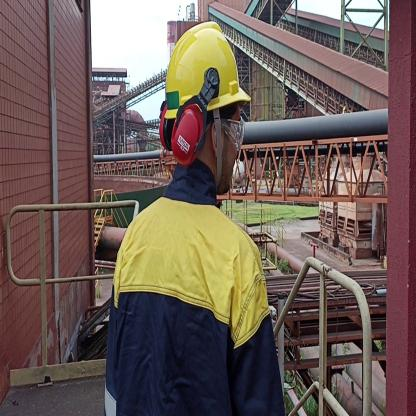C_eletrica: (112, 205, 271, 416)
Capacete: (160, 20, 250, 107)
